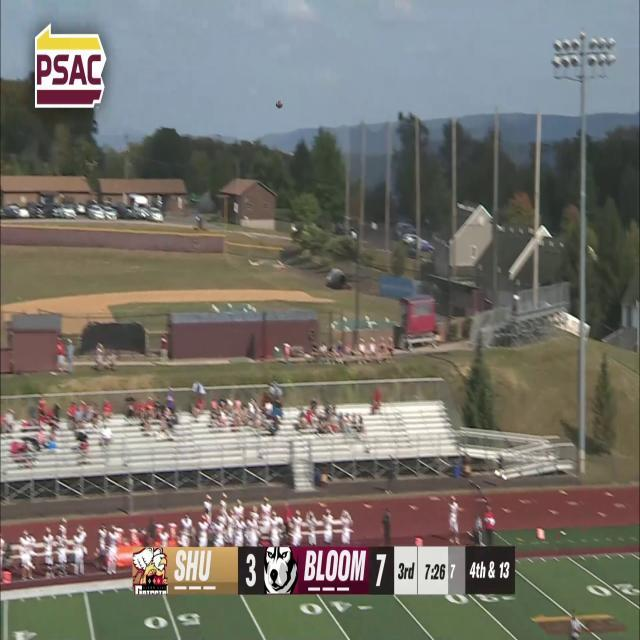football: (275, 100, 283, 110)
